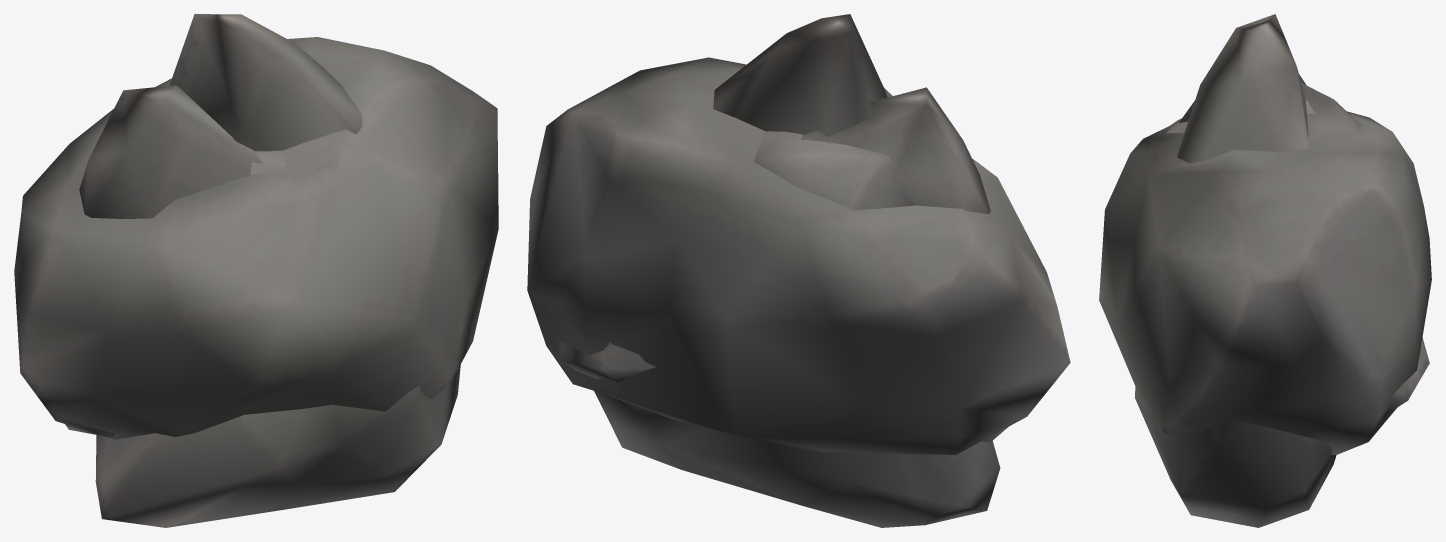
File: PR_Rocks_Decorative_Wind_GLFT.gltf
3 renders of one model, left to right at view 1: azimuth 30°, elevation 25°; view 2: azimuth 150°, elevation 25°; view 3: azimuth 270°, elevation 25°, orthographic. The views are drawn at different scales.
Visible parts, largest first — view 1: PR_Rocks_DecorativeScaled_wind_v05, PR_Rocks_DecorativeScaled_wind_v01, PR_Rocks_DecorativeScaled_wind_v06, PR_Rocks_DecorativeScaled_wind_v07; view 2: PR_Rocks_DecorativeScaled_wind_v05, PR_Rocks_DecorativeScaled_wind_v01, PR_Rocks_DecorativeScaled_wind_v06, PR_Rocks_DecorativeScaled_wind_v07; view 3: PR_Rocks_DecorativeScaled_wind_v05, PR_Rocks_DecorativeScaled_wind_v01, PR_Rocks_DecorativeScaled_wind_v07, PR_Rocks_DecorativeScaled_wind_v06.
Part boxes in pixels (box(x1,y1,x2,y2)): PR_Rocks_DecorativeScaled_wind_v05: box(14, 37, 498, 439); PR_Rocks_DecorativeScaled_wind_v01: box(95, 14, 460, 527); PR_Rocks_DecorativeScaled_wind_v06: box(62, 85, 262, 436); PR_Rocks_DecorativeScaled_wind_v07: box(168, 85, 285, 175); PR_Rocks_DecorativeScaled_wind_v05: box(527, 57, 1070, 454); PR_Rocks_DecorativeScaled_wind_v01: box(594, 14, 1000, 527); PR_Rocks_DecorativeScaled_wind_v06: box(557, 87, 1007, 442); PR_Rocks_DecorativeScaled_wind_v07: box(753, 131, 916, 210); PR_Rocks_DecorativeScaled_wind_v05: box(1099, 111, 1431, 454); PR_Rocks_DecorativeScaled_wind_v01: box(1135, 14, 1336, 527); PR_Rocks_DecorativeScaled_wind_v07: box(1166, 83, 1362, 134); PR_Rocks_DecorativeScaled_wind_v06: box(1179, 74, 1429, 413).
Bounding box in the file's own units: 2.43 × 2.31 × 1.6.
1 material, 1 textured.
